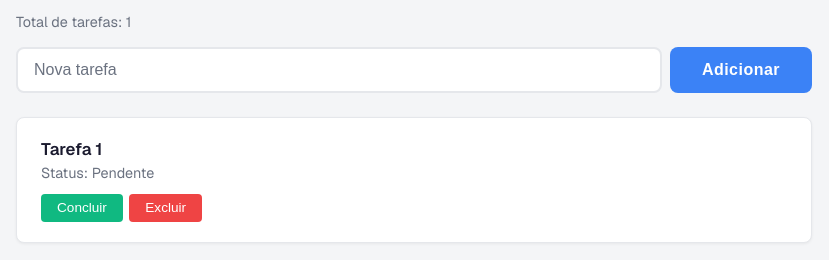
Scenario: ListaDeTarefas › conclui uma tarefa
What coordinates should you click on to do the following:
click the button "Concluir"
I would click on:
 (82, 208)
Its box is [41,194,123,222].
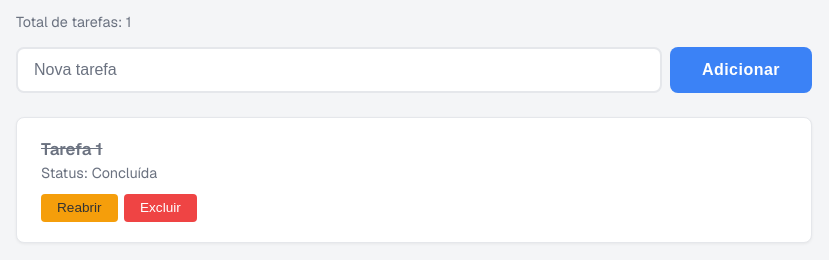
Result: the button "Reabrir" is shown at [41,194,118,222]
